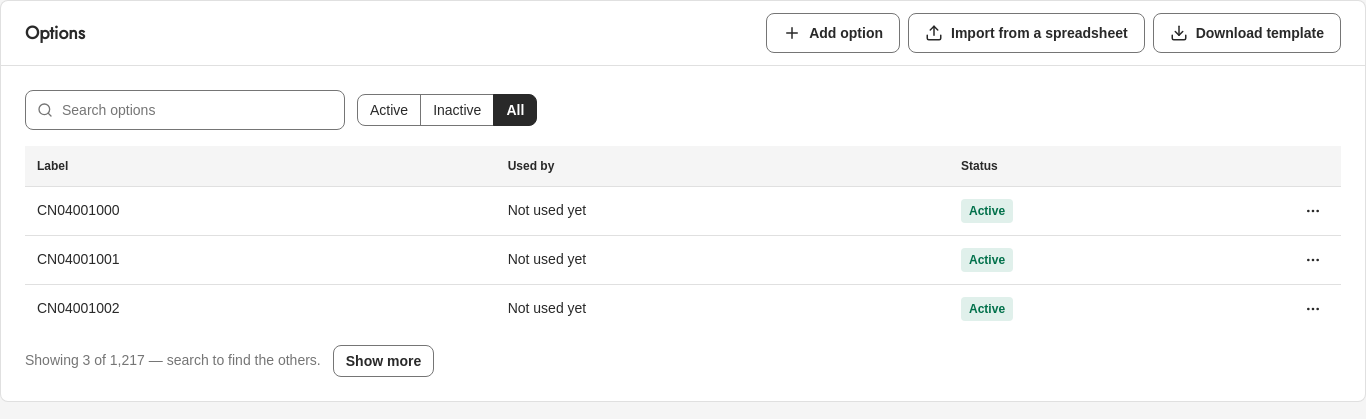
OptionsCard (FR-018, FR-020, SC-007) › finds an option among 1,217 by any part of its label, asking the API
The width and height of the screenshot is (1366, 419).
Expected: the text "Showing 3 of 1,217 — search to find the others." is shown, [25,350,321,371]
Type "0220" into the search field labelled "Search options".
click(185, 110); type("0220")  # box [25,90,345,130]
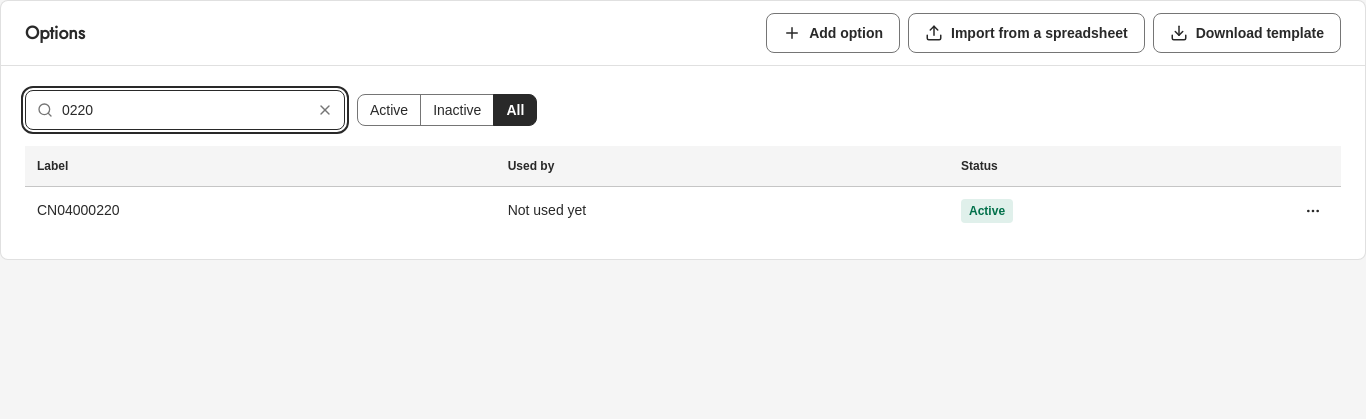
Now the column heading "CN04000220" is shown, box [25,186,496,234]
